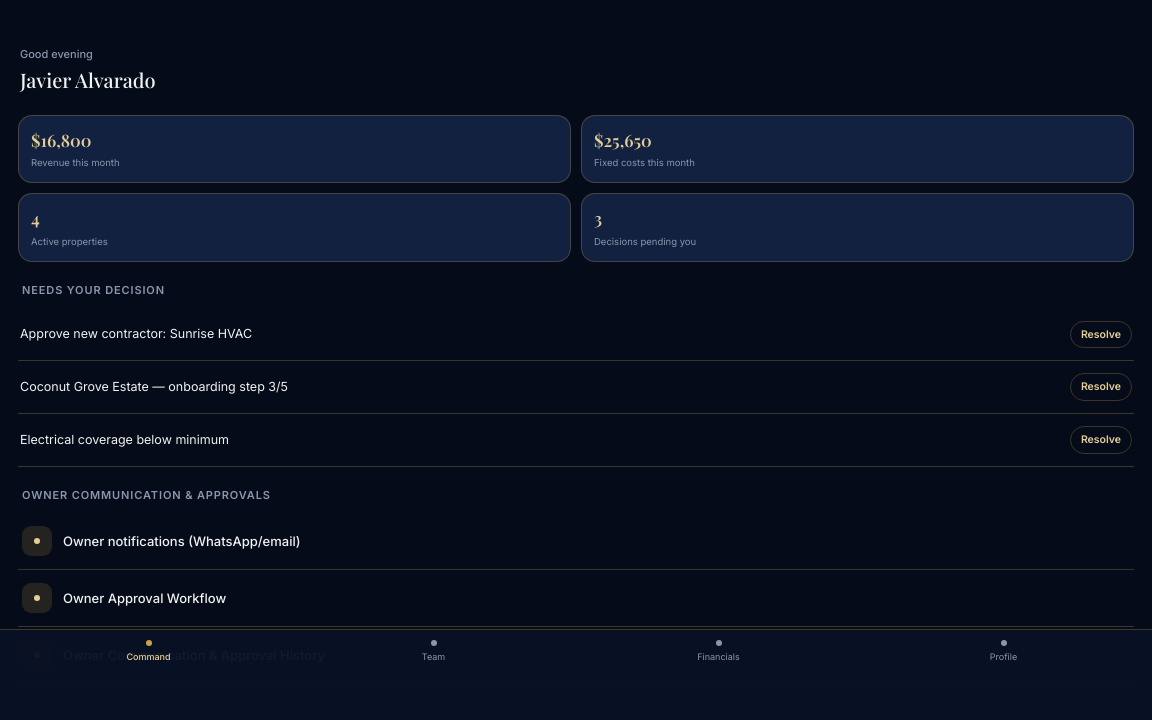
Test case: PM: Command decisions › resolving a decision removes it from the list and updates the pending count
Check: the text "3" is shown, box [594,207,602,229]
Click the button "Resolve" in the row of "Approve new contractor: Sunrise HVAC" at (1101, 334), box [1070,320,1132,348]
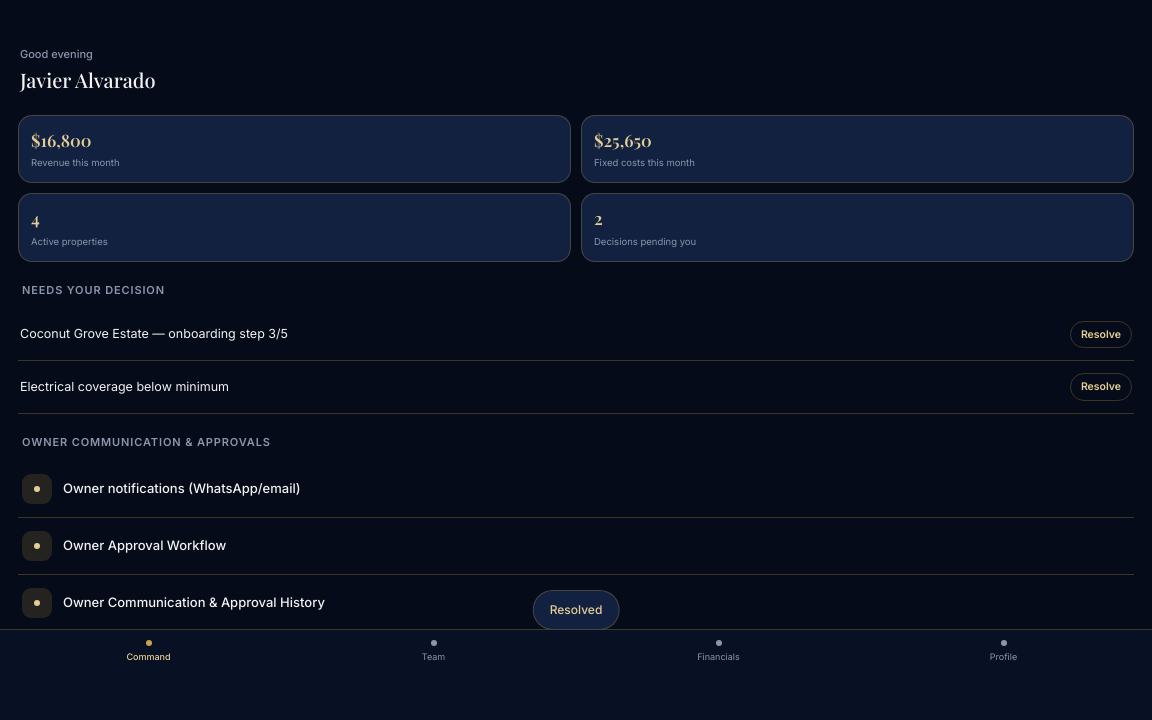
Check: the number of buttons "Resolve" is 2, box [1070,320,1132,348]; [1070,373,1132,401]
